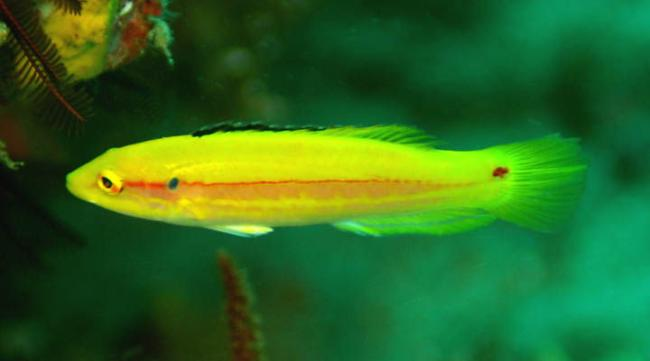fish: (63, 120, 590, 238)
